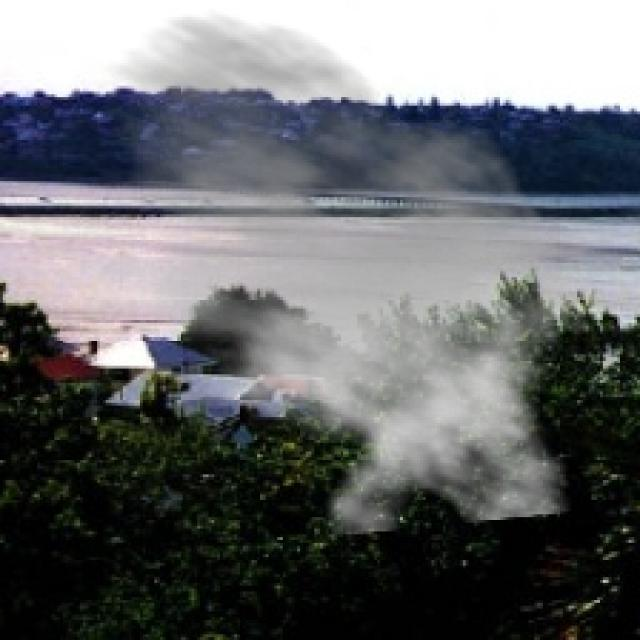smoke: (54, 9, 609, 537)
